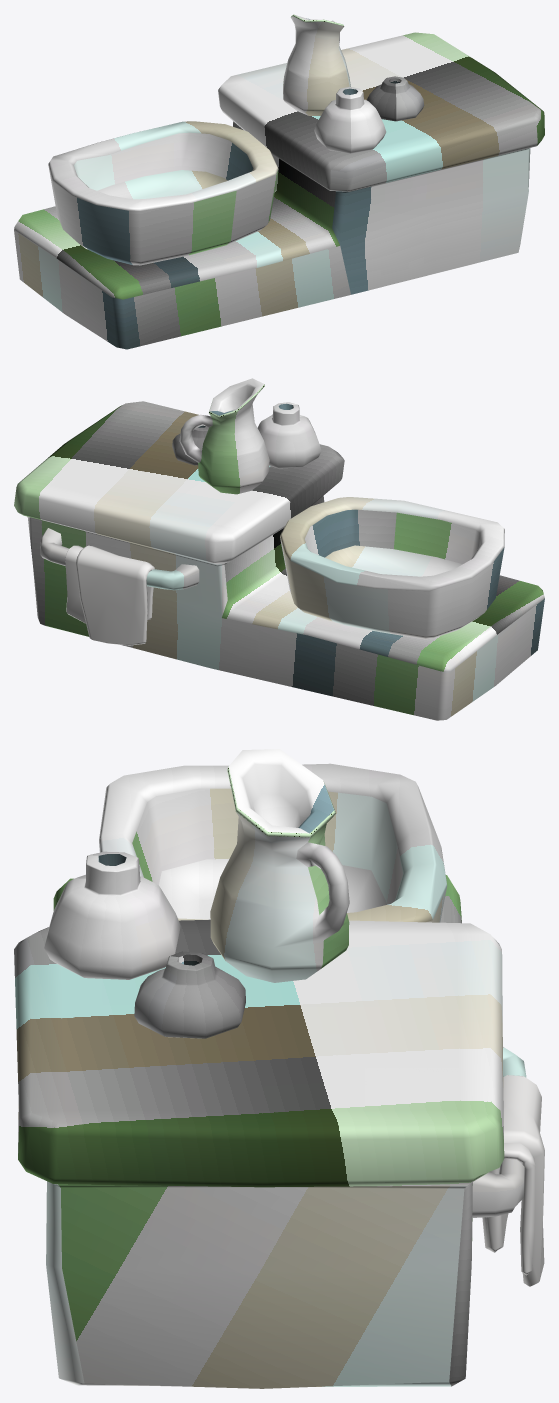
Rendered from P_StoneKitchenSink.glb.
The picture shows the model from 3 angles, top to bottom: view 1: azimuth 30°, elevation 25°; view 2: azimuth 150°, elevation 25°; view 3: azimuth 270°, elevation 25°; orthographic projection. The views are drawn at different scales.
Parts seen in each view (by area): view 1: P_StoneKitchenSink; view 2: P_StoneKitchenSink; view 3: P_StoneKitchenSink.
Part boxes in pixels (<box>): P_StoneKitchenSink: <box>14,14,544,349</box>; P_StoneKitchenSink: <box>14,378,544,720</box>; P_StoneKitchenSink: <box>14,749,544,1388</box>.
Bounding box in the file's own units: 1.97 × 1.05 × 1.06.
Materials: 1 (1 with a texture image).
